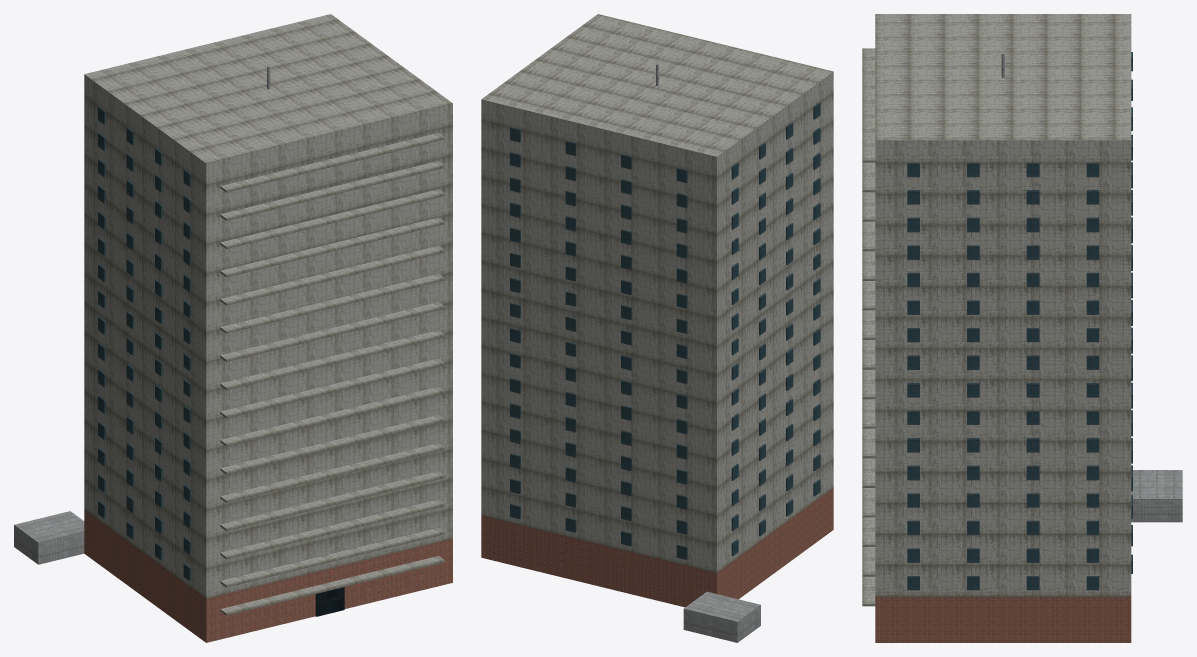
File: apartment-tower_lod0.gltf
3 views of the same model, side by side, from view 1: azimuth 30°, elevation 25°; view 2: azimuth 150°, elevation 25°; view 3: azimuth 270°, elevation 25° (orthographic). The views are drawn at different scales.
Visible parts, largest first — view 1: apartment-tower_upper, apartment-tower__balconies, apartment-tower_base, apartment-tower_fen_07-glass-curtain-blue_0, apartment-tower__playground, apartment-tower_fen_07-glass-curtain-blue_1_t; view 2: apartment-tower_upper, apartment-tower_fen_07-glass-curtain-blue_0, apartment-tower_base, apartment-tower__playground; view 3: apartment-tower_upper, apartment-tower_fen_07-glass-curtain-blue_0, apartment-tower_base, apartment-tower__balconies, apartment-tower__playground.
Part boxes in pixels (box(x1,y1,x2,y2)): apartment-tower_upper: box(84, 14, 452, 598); apartment-tower__balconies: box(220, 133, 444, 615); apartment-tower_base: box(84, 509, 452, 642); apartment-tower_fen_07-glass-curtain-blue_0: box(98, 106, 190, 581); apartment-tower__playground: box(14, 511, 84, 564); apartment-tower_fen_07-glass-curtain-blue_1_t: box(315, 587, 344, 616); apartment-tower_upper: box(481, 14, 833, 572); apartment-tower_fen_07-glass-curtain-blue_0: box(510, 102, 820, 559); apartment-tower_base: box(481, 488, 833, 607); apartment-tower__playground: box(683, 591, 760, 642); apartment-tower_upper: box(875, 14, 1131, 596); apartment-tower_fen_07-glass-curtain-blue_0: box(907, 52, 1132, 590); apartment-tower_base: box(875, 596, 1131, 642); apartment-tower__balconies: box(862, 48, 875, 606); apartment-tower__playground: box(1131, 470, 1182, 522).
Bounding box in the file's own units: 41.7 × 68 × 37.5.
